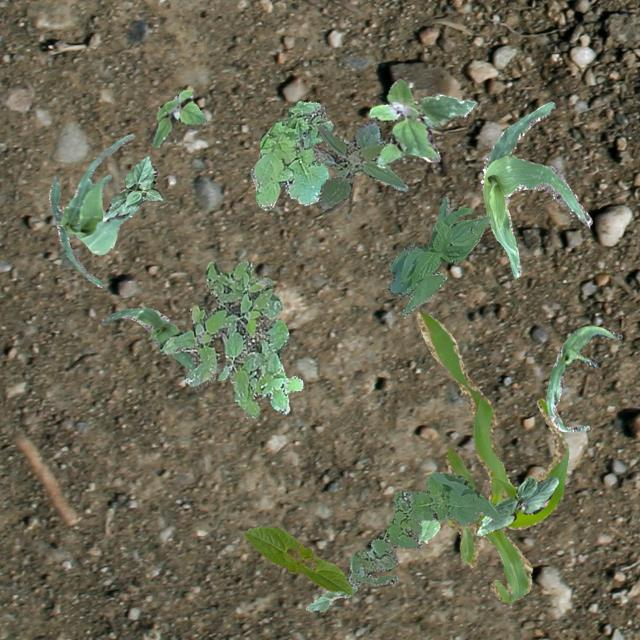crop: (416, 310, 568, 600), (479, 100, 592, 276), (48, 134, 138, 286), (387, 196, 489, 316), (100, 306, 200, 390), (544, 324, 622, 431), (244, 526, 352, 594), (476, 474, 558, 534), (102, 154, 162, 220), (304, 580, 360, 610), (416, 518, 438, 542)
weed: (158, 259, 302, 416), (346, 470, 498, 584), (368, 78, 474, 168), (250, 100, 332, 210), (313, 120, 407, 210), (148, 88, 206, 146)
